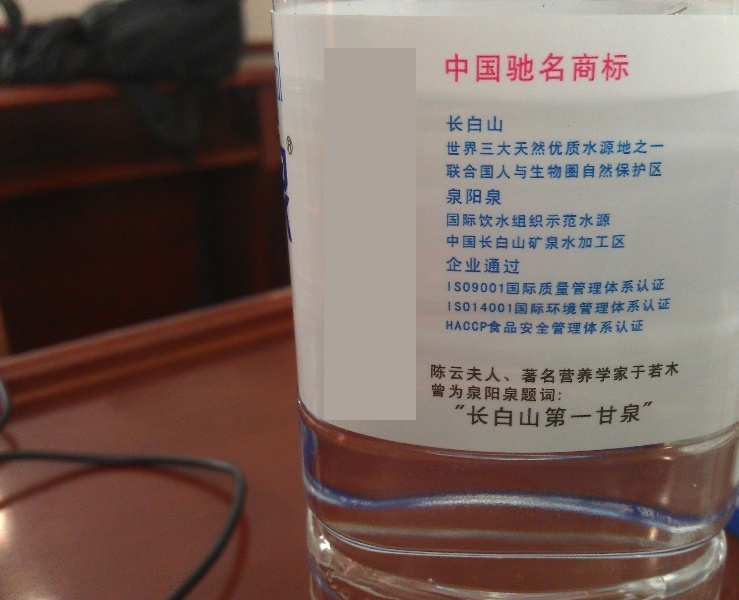text: (273, 51, 288, 101), (281, 143, 288, 244), (289, 143, 294, 244), (449, 52, 464, 83), (465, 52, 480, 83), (481, 52, 496, 83), (497, 52, 512, 83), (513, 52, 528, 83), (529, 52, 544, 83), (545, 52, 560, 83), (561, 52, 576, 83), (577, 52, 592, 83), (593, 52, 608, 83), (609, 52, 624, 83), (465, 400, 480, 430), (481, 400, 496, 430), (497, 400, 512, 430), (513, 400, 528, 430), (529, 400, 544, 430), (545, 400, 560, 430), (561, 400, 576, 430), (577, 400, 592, 430), (593, 400, 608, 430), (609, 400, 624, 430), (625, 400, 640, 430), (641, 400, 656, 430), (433, 361, 448, 385), (449, 361, 464, 385), (465, 361, 480, 385), (481, 361, 496, 385), (497, 361, 512, 385), (513, 361, 528, 385), (529, 361, 544, 385), (545, 361, 560, 385), (561, 361, 576, 385), (577, 361, 592, 385), (593, 361, 608, 385), (609, 361, 624, 385), (625, 361, 640, 385), (641, 361, 656, 385), (657, 361, 672, 385), (433, 383, 448, 403), (449, 383, 464, 403), (465, 383, 480, 403), (481, 383, 496, 403), (497, 383, 512, 403), (513, 383, 528, 403), (529, 383, 544, 403), (545, 383, 560, 403), (454, 400, 464, 430), (449, 115, 464, 134), (465, 115, 480, 134), (481, 115, 496, 134), (449, 139, 464, 158), (465, 139, 480, 158), (481, 139, 496, 158), (497, 139, 512, 158), (513, 139, 528, 158), (529, 139, 544, 158), (545, 139, 560, 158), (561, 139, 576, 158), (577, 139, 592, 158), (593, 139, 608, 158), (609, 139, 624, 158), (625, 139, 640, 158), (641, 139, 656, 158), (449, 162, 464, 180), (465, 162, 480, 180), (481, 162, 496, 180), (497, 162, 512, 180), (513, 162, 528, 180), (529, 162, 544, 180), (545, 162, 560, 180), (561, 162, 576, 180), (577, 162, 592, 180), (593, 162, 608, 180), (609, 162, 624, 180), (625, 162, 640, 180), (641, 162, 656, 180), (449, 188, 464, 206), (465, 188, 480, 206), (481, 188, 496, 206), (449, 257, 464, 275), (465, 257, 480, 275), (481, 257, 496, 275), (497, 257, 512, 275), (449, 234, 464, 251), (465, 234, 480, 251), (481, 234, 496, 251), (497, 234, 512, 251), (513, 234, 528, 251), (529, 234, 544, 251), (545, 234, 560, 251), (561, 234, 576, 251), (577, 234, 592, 251), (593, 234, 608, 251), (609, 234, 624, 251), (449, 279, 464, 296), (465, 279, 480, 296), (481, 279, 496, 296), (497, 279, 512, 296), (513, 279, 528, 296), (529, 279, 544, 296), (545, 279, 560, 296), (561, 279, 576, 296), (577, 279, 592, 296), (593, 279, 608, 296), (609, 279, 624, 296), (625, 279, 640, 296), (641, 279, 656, 296), (449, 298, 464, 315), (465, 298, 480, 315), (481, 298, 496, 315), (497, 298, 512, 315), (513, 298, 528, 315), (529, 298, 544, 315), (545, 298, 560, 315), (561, 298, 576, 315), (577, 298, 592, 315), (593, 298, 608, 315), (609, 298, 624, 315), (625, 298, 640, 315), (641, 298, 656, 315), (449, 213, 464, 229), (465, 213, 480, 229), (481, 213, 496, 229), (497, 213, 512, 229), (513, 213, 528, 229), (529, 213, 544, 229), (545, 213, 560, 229), (561, 213, 576, 229), (577, 213, 592, 229), (593, 213, 608, 229), (657, 139, 669, 158), (449, 320, 464, 335), (465, 320, 480, 335), (481, 320, 496, 335), (497, 320, 512, 335), (513, 320, 528, 335), (529, 320, 544, 335), (545, 320, 560, 335), (561, 320, 576, 335), (577, 320, 592, 335), (593, 320, 608, 335), (609, 320, 624, 335), (625, 320, 640, 335), (657, 298, 670, 315), (673, 361, 680, 385), (657, 279, 666, 296), (513, 257, 521, 275), (497, 115, 504, 134), (625, 52, 629, 83), (657, 162, 663, 180), (445, 52, 448, 83), (497, 188, 502, 206), (444, 320, 448, 335), (289, 138, 293, 153), (445, 139, 448, 158), (430, 361, 432, 385), (445, 213, 448, 229), (641, 320, 644, 335), (446, 162, 448, 180), (446, 188, 448, 206), (446, 257, 448, 275), (446, 234, 448, 251), (625, 234, 627, 251), (609, 213, 611, 229), (561, 383, 562, 403), (447, 115, 448, 134), (447, 279, 448, 296), (447, 298, 448, 315), (287, 138, 288, 153)
